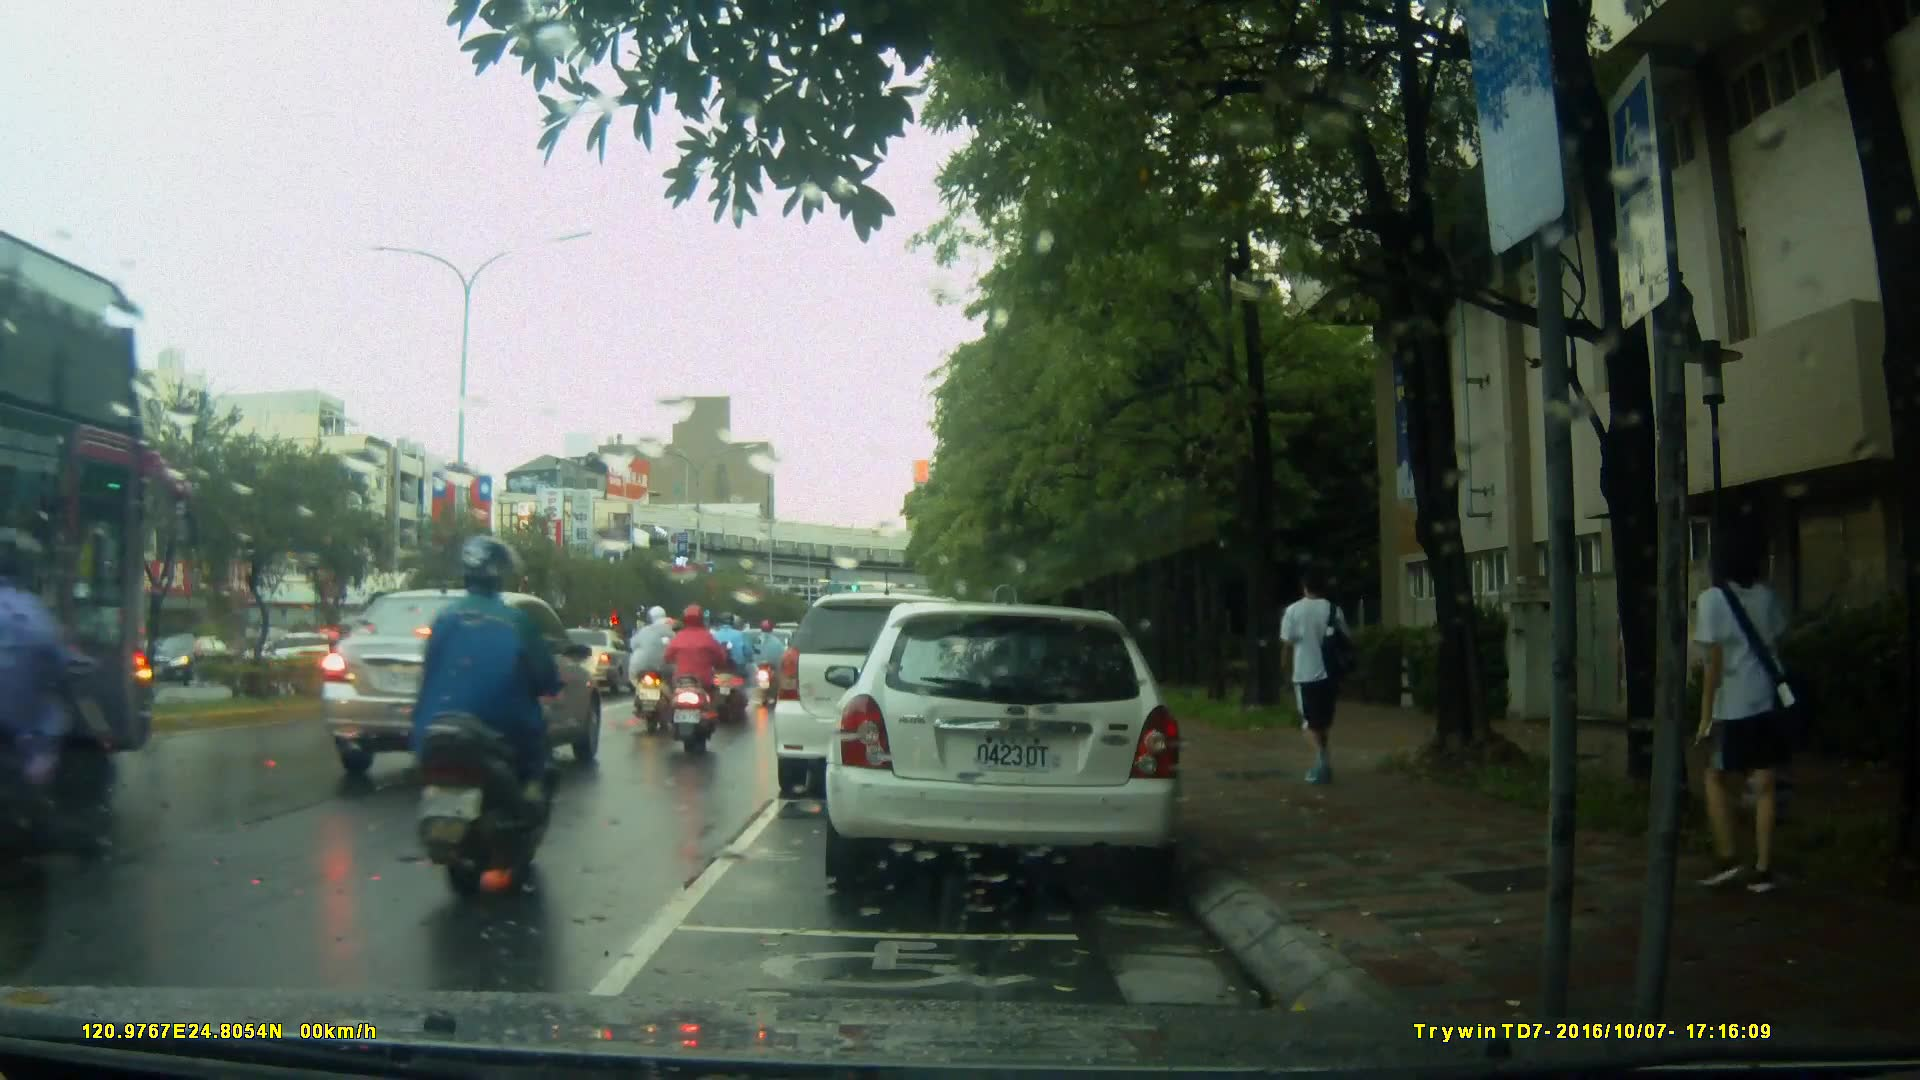pedestrian: (1671, 524, 1791, 906), (1, 523, 127, 868), (1277, 553, 1378, 809)
rider: (408, 536, 563, 909), (658, 605, 727, 761), (628, 603, 682, 738), (707, 611, 758, 717), (751, 616, 787, 711)
vehicle: (822, 604, 1188, 882), (318, 587, 607, 782), (774, 595, 995, 802), (537, 625, 638, 698), (144, 630, 241, 686)
